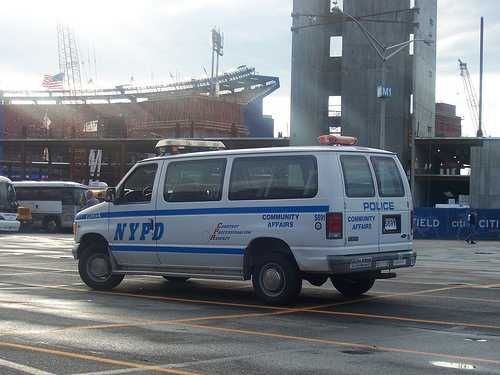Ambulance: (64, 128, 426, 299)
